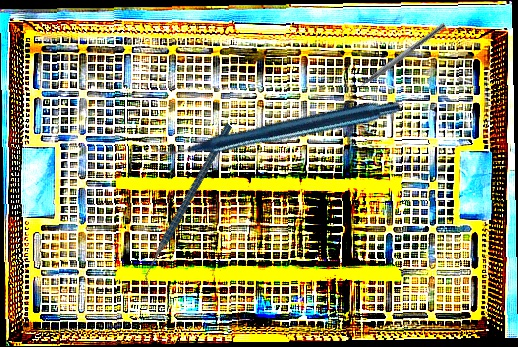Chopper: (100, 123, 277, 292), (345, 16, 448, 97)
Handpiece: (148, 13, 404, 240)
